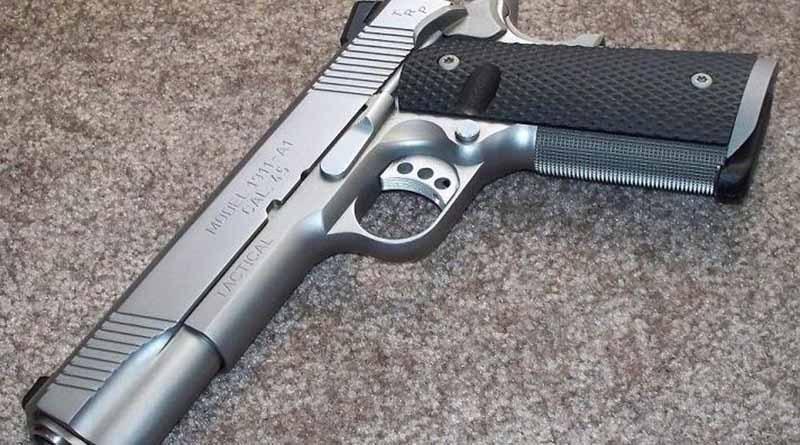Arma Real: (9, 1, 783, 444)
